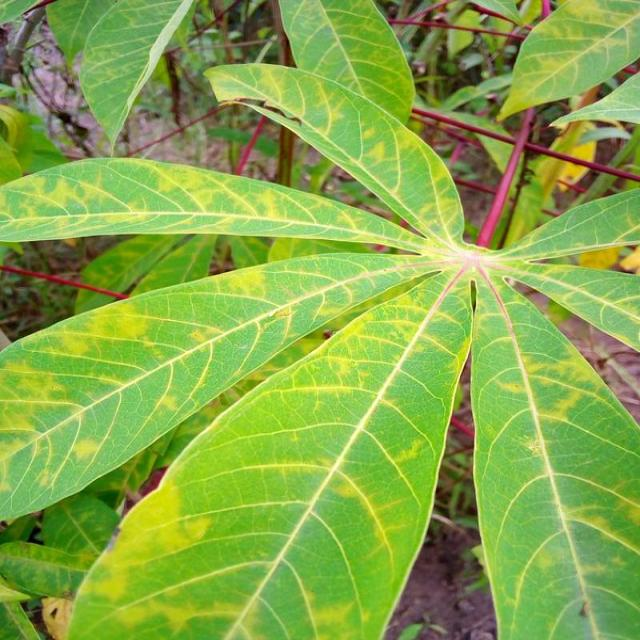cassava leaf: (1, 1, 638, 638), (64, 260, 474, 638), (469, 264, 639, 638)
